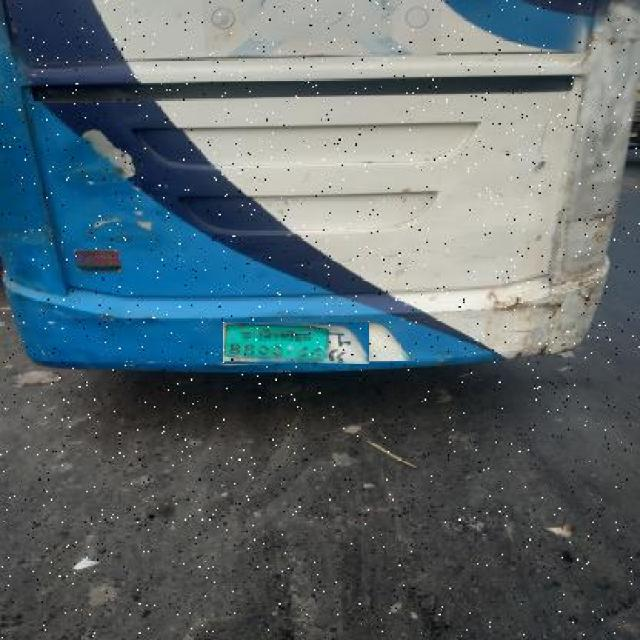numberplate: (223, 322, 369, 364)
